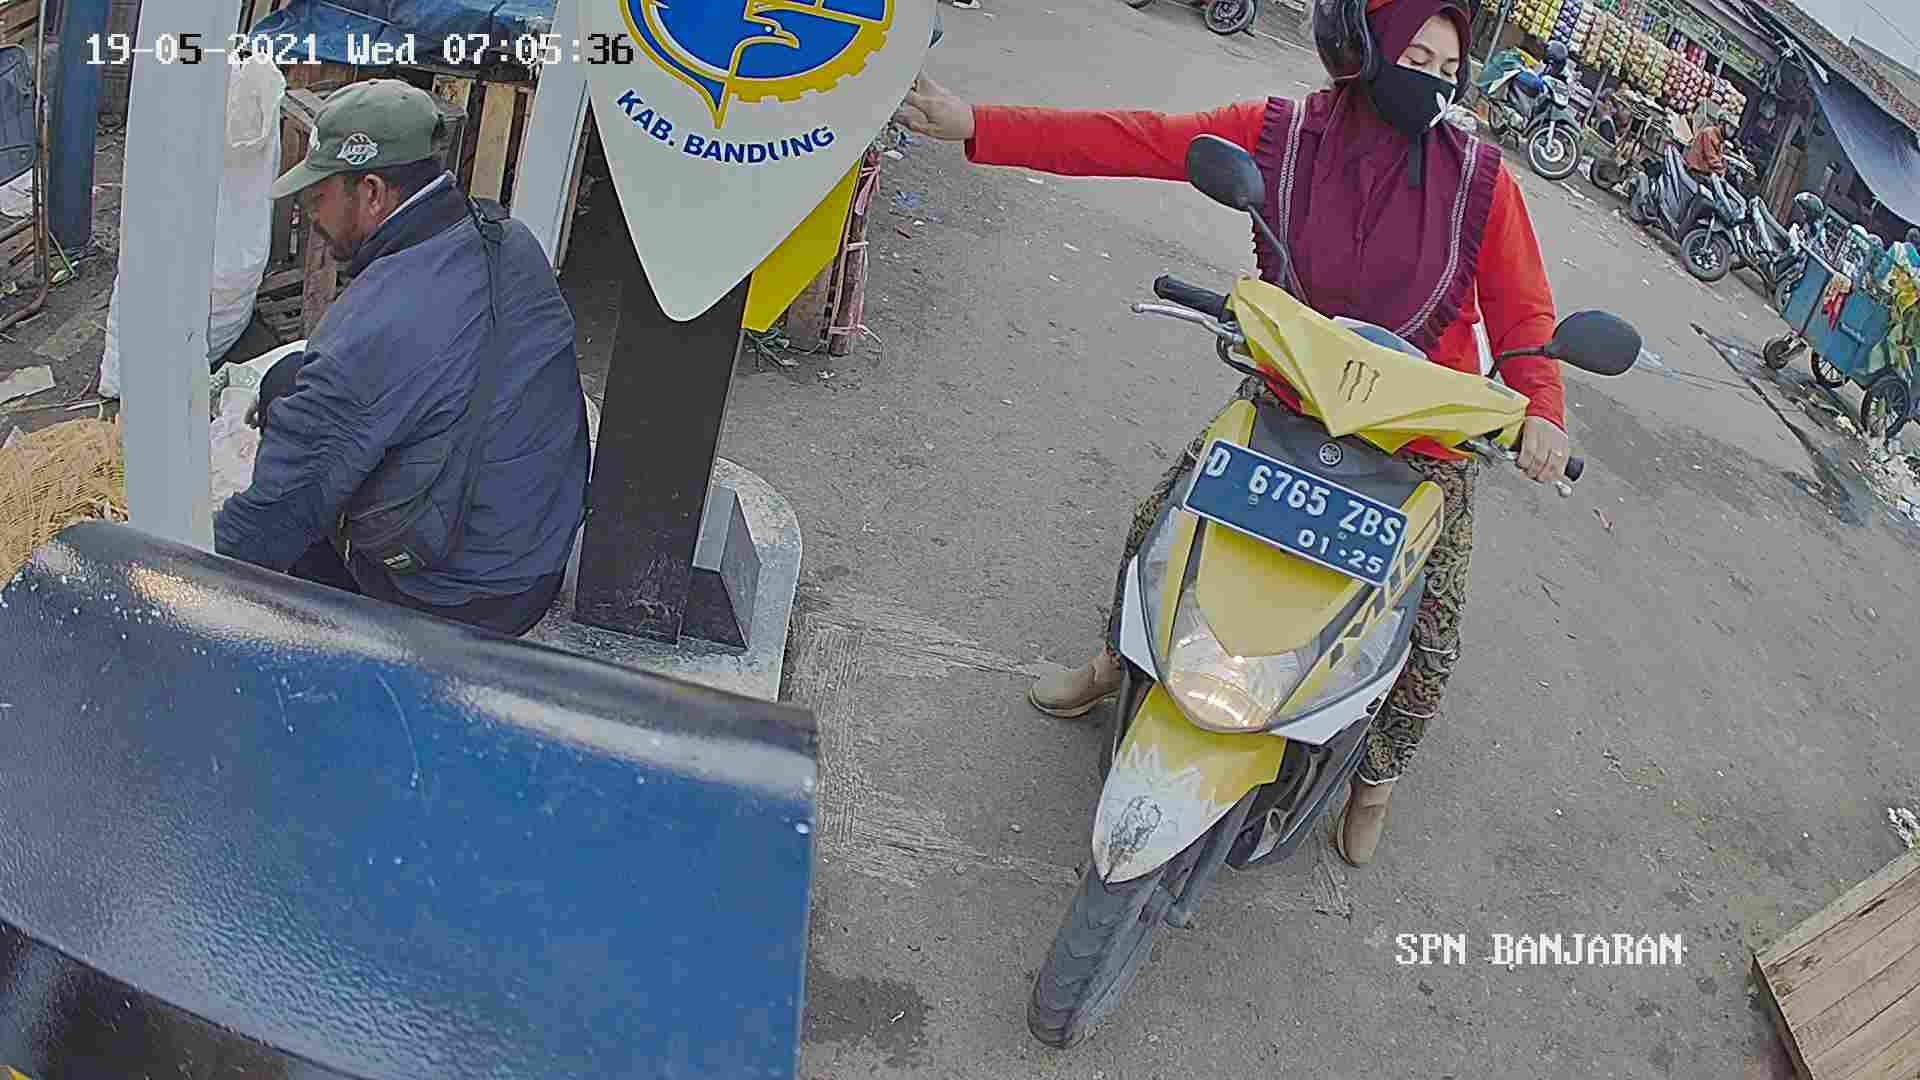motor: (1035, 253, 1503, 1060)
